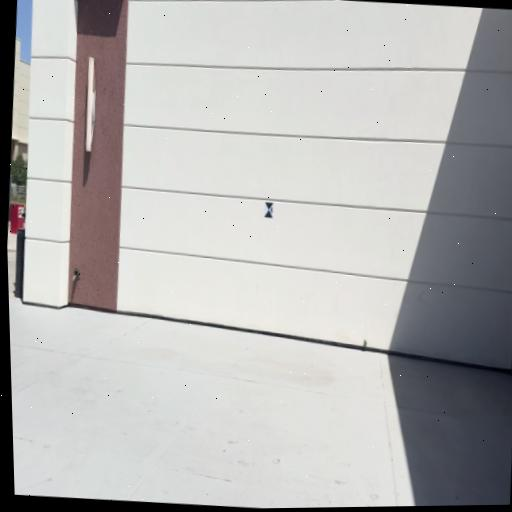target4: (264, 202, 275, 220)
